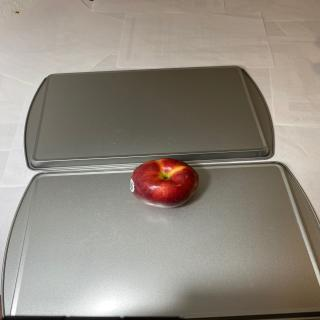Apple: (130, 158, 199, 208)
